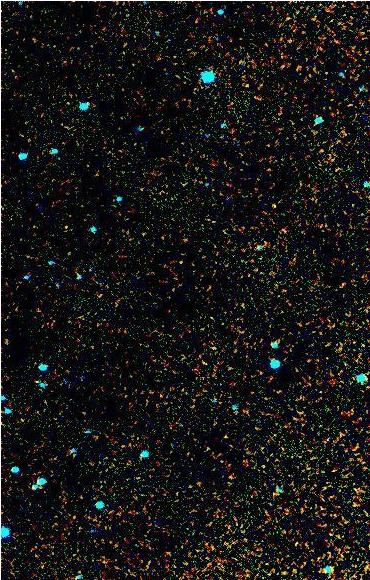star: (260, 190, 290, 220)
